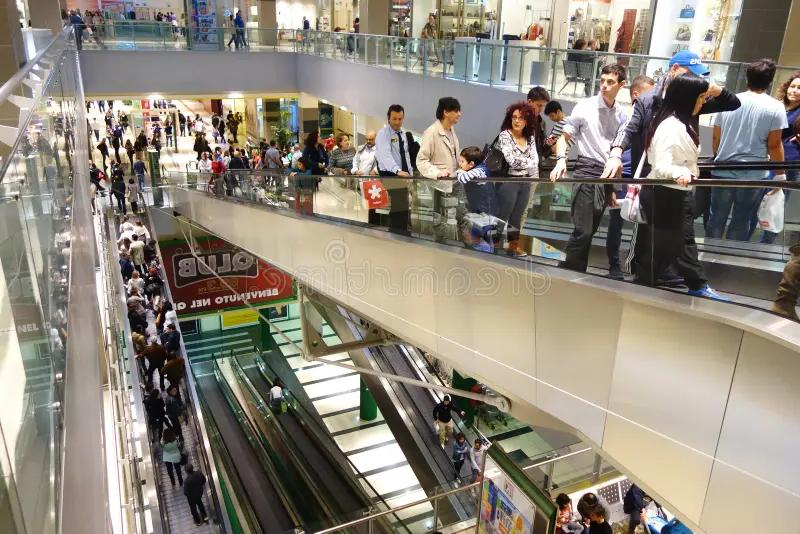coat: (300, 145, 328, 176), (125, 183, 138, 204)
jacket: (644, 116, 702, 195), (414, 118, 465, 193), (137, 343, 165, 368), (161, 435, 182, 464), (183, 470, 207, 495), (453, 441, 469, 462)
long sleeve shirt: (560, 90, 630, 162), (497, 129, 540, 179), (375, 125, 412, 176), (350, 142, 377, 178)
short sleeve shirt: (710, 90, 788, 181)
sweater: (328, 147, 358, 175), (433, 403, 463, 424), (469, 446, 485, 473), (210, 161, 227, 175)
trousers: (638, 182, 707, 289), (564, 156, 614, 269), (706, 175, 768, 248), (491, 172, 533, 258), (427, 181, 474, 251), (379, 170, 411, 234), (186, 495, 208, 525), (146, 363, 166, 388), (437, 419, 456, 445), (167, 459, 184, 487), (452, 459, 465, 485), (213, 172, 224, 198), (470, 466, 481, 488), (116, 196, 127, 215), (137, 172, 146, 190), (131, 201, 138, 215)
